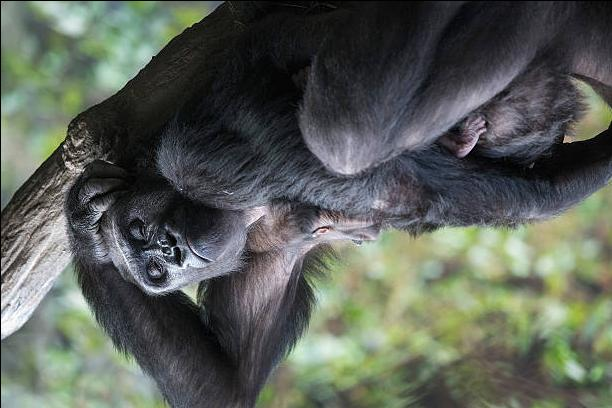gorille_Autres: (67, 33, 568, 408)
